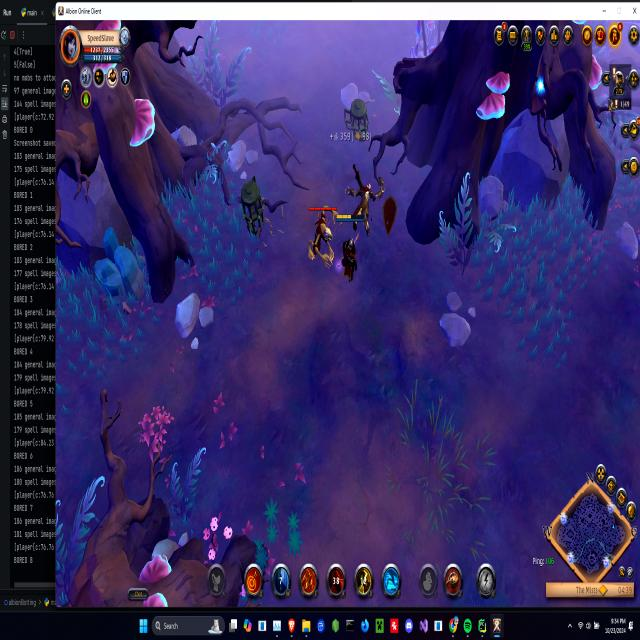ore: (304, 202, 342, 274)
red: (333, 208, 369, 289)
